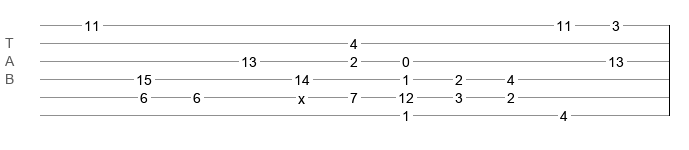0: (402, 54, 410, 64)
1: (402, 72, 410, 82), (402, 108, 410, 118)
11: (84, 18, 100, 28), (556, 18, 572, 28)
12: (398, 90, 414, 100)
13: (241, 54, 257, 64), (608, 54, 624, 64)
14: (294, 72, 310, 82)
15: (136, 72, 152, 82)
2: (350, 54, 358, 64), (455, 72, 463, 82), (507, 90, 515, 100)
3: (455, 90, 463, 100), (612, 18, 620, 28)
4: (350, 36, 358, 46), (507, 72, 515, 82), (560, 108, 568, 118)
6: (140, 90, 148, 100), (193, 90, 201, 100)
7: (350, 90, 358, 100)
x: (298, 91, 305, 99)
